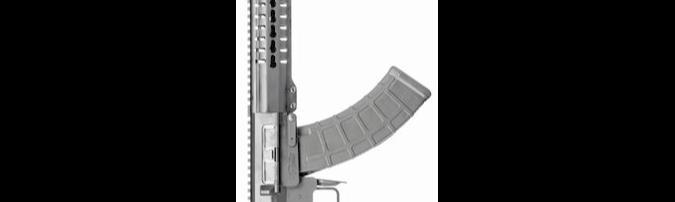gun: (236, 0, 438, 202)
